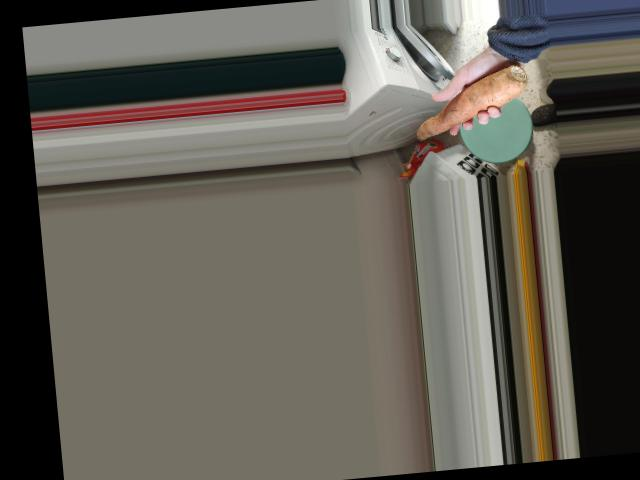sweet_potato: (402, 60, 534, 146)
